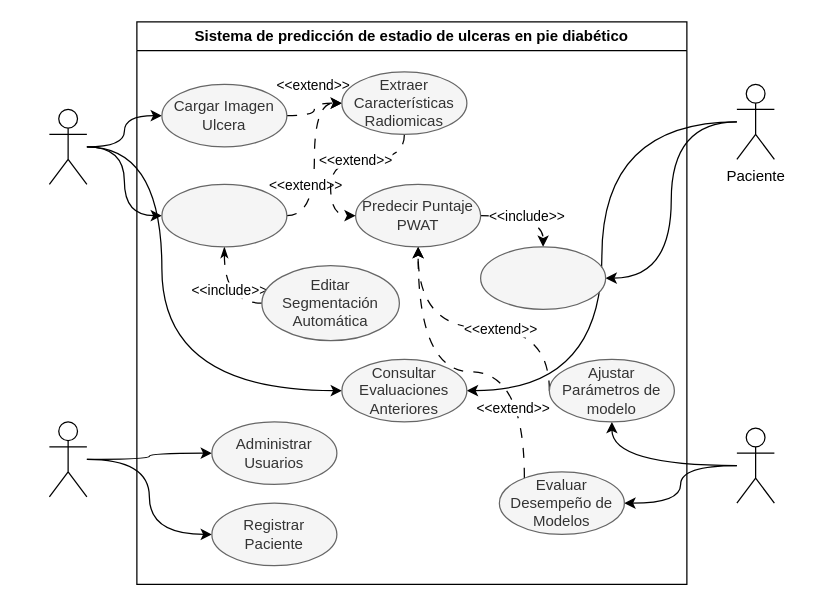
This 818x606 diagram has some shape labels left out. The shapes that lost their labels are listed below. From the top down, each one's centre as x and y in pixels, then its label:
pixel 67 146: Profesional
pixel 224 215: Segmentar Imagen Ulcera
pixel 542 277: Visualizar Resultados
pixel 67 459: Administrador
pixel 755 465: Investigador
